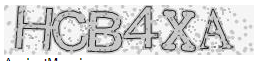4: (122, 5, 160, 50)
A: (199, 8, 234, 51)
B: (87, 10, 123, 53)
C: (52, 9, 88, 52)
H: (14, 4, 52, 53)
X: (161, 9, 197, 53)
